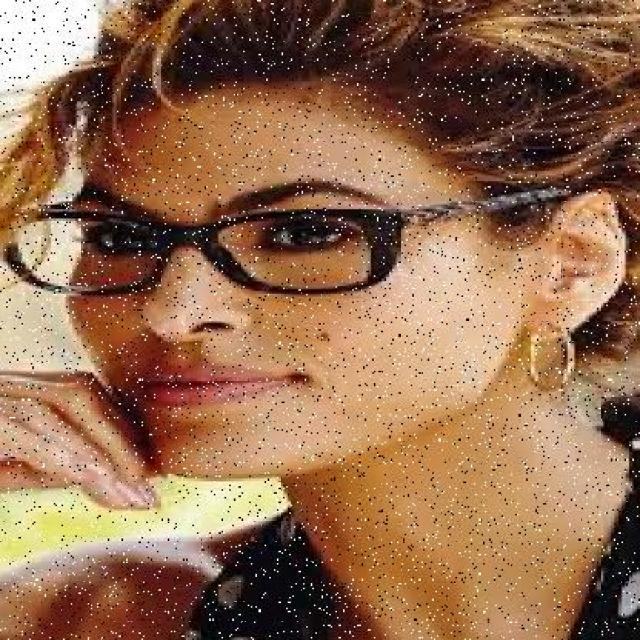mask: (0, 194, 440, 310)
